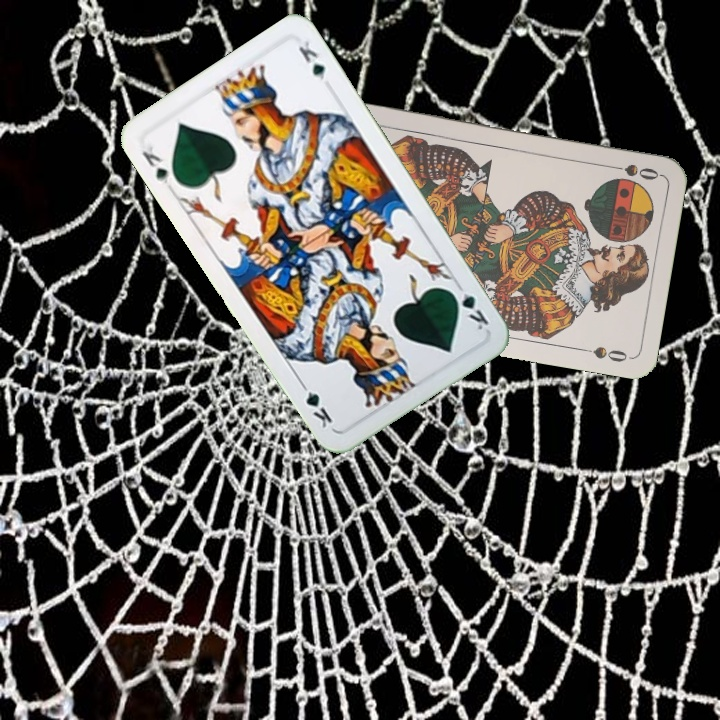GK: (446, 279, 492, 333), (137, 138, 171, 187)
SO: (603, 159, 662, 183)
